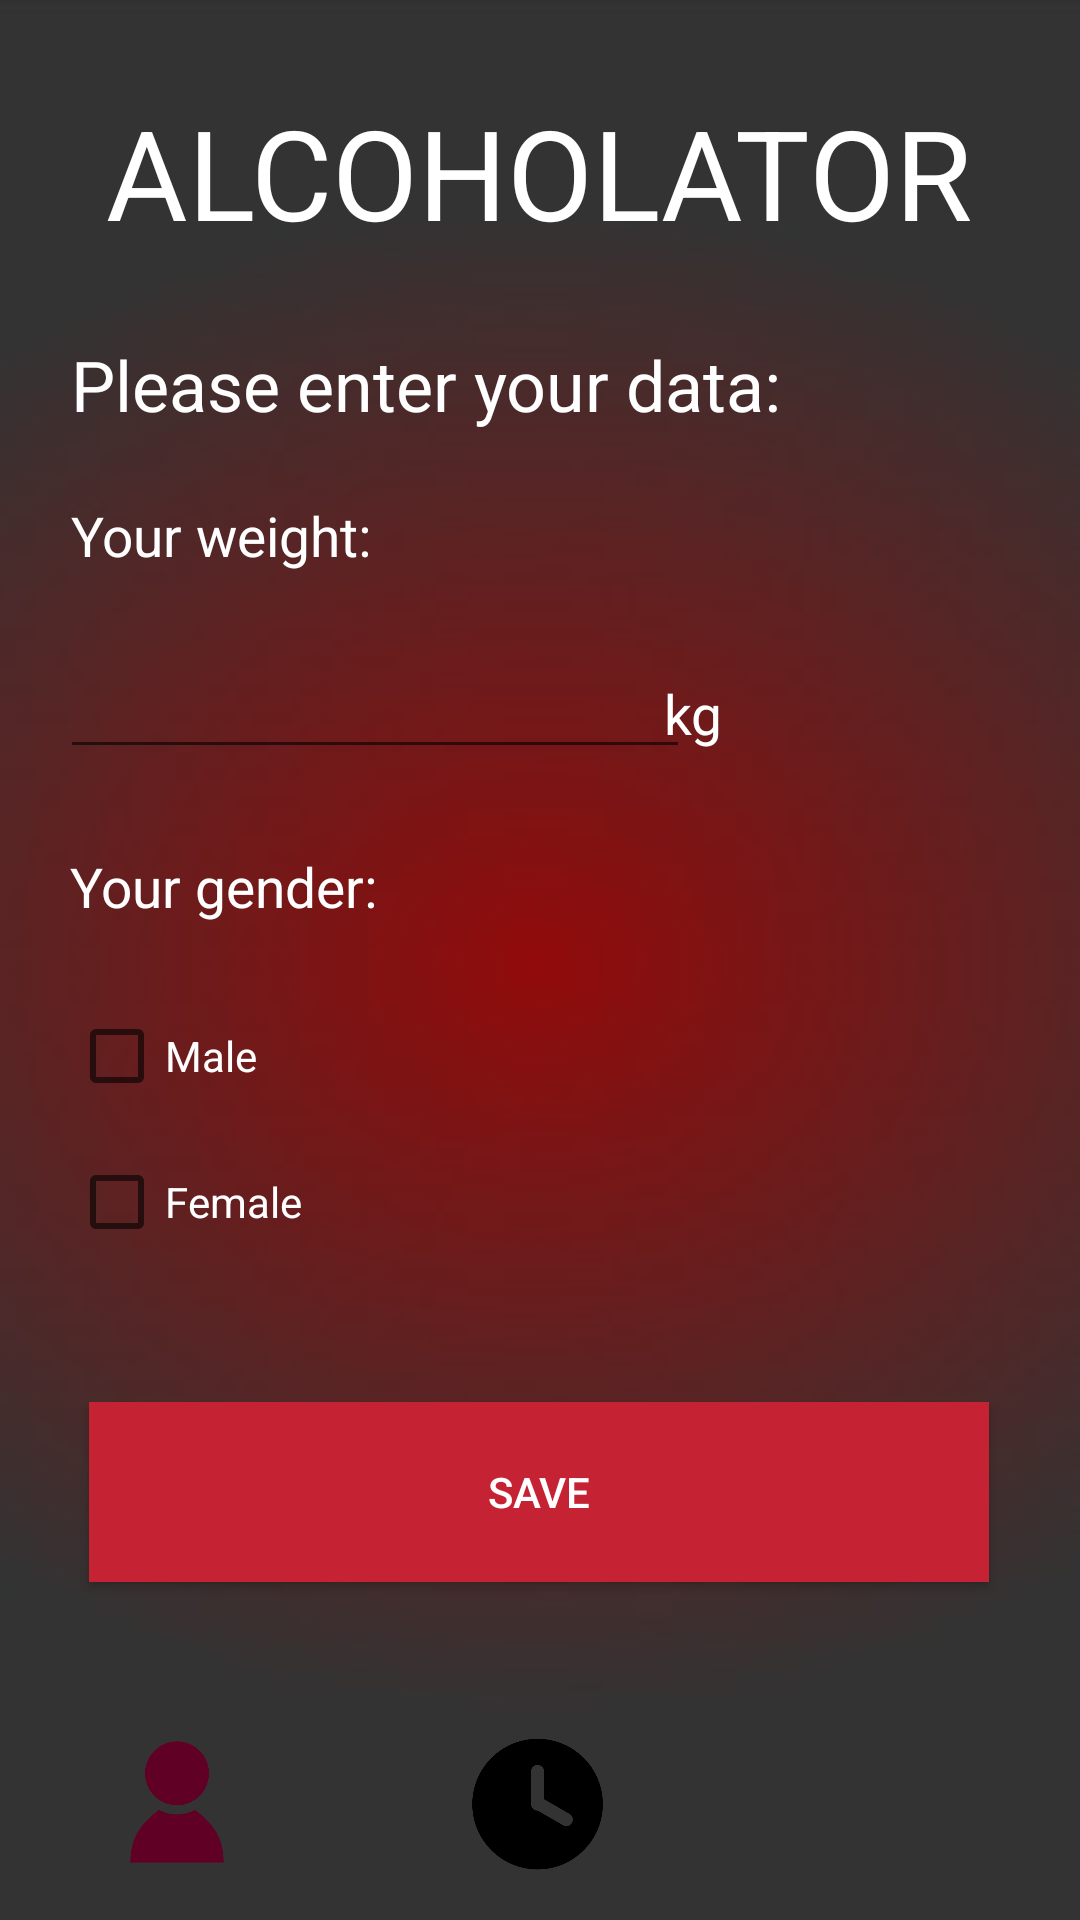

Where to tap for icons on this 1080px×1920px app screen, as point (x, y):
history: point (537, 1804)
profile: point (177, 1802)
